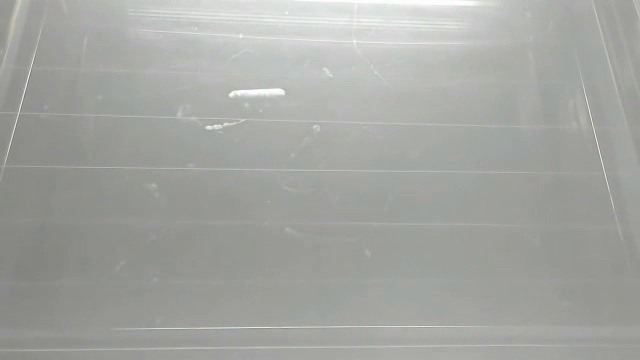alpha: (227, 85, 287, 101), (204, 116, 249, 133)
